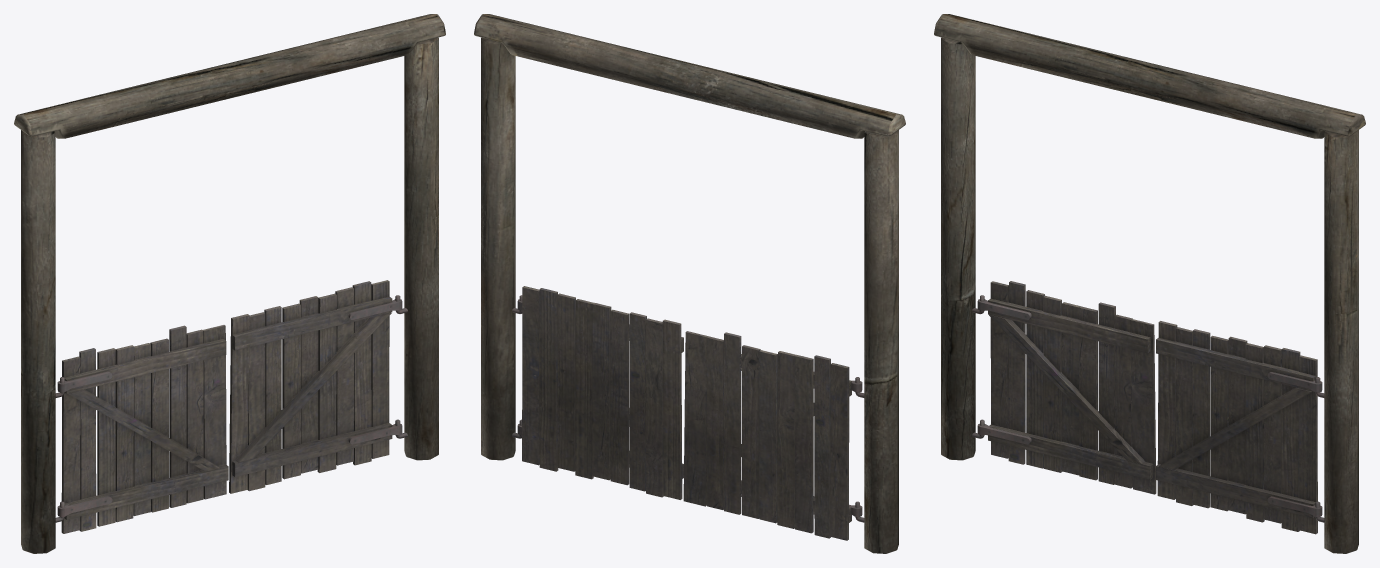
The model's file is gate.glb.
3 views of the same model, side by side, from view 1: azimuth 30°, elevation 25°; view 2: azimuth 150°, elevation 25°; view 3: azimuth 330°, elevation 25° (orthographic).
Parts seen in each view (by area): view 1: gate, gate_door_left, gate_door_right; view 2: gate, gate_door_left, gate_door_right; view 3: gate, gate_door_left, gate_door_right.
Boxes of the visible parts, <box> form: gate: <box>14,14,445,553</box>; gate_door_left: <box>57,325,228,533</box>; gate_door_right: <box>229,280,402,493</box>; gate: <box>474,14,905,553</box>; gate_door_left: <box>683,331,862,540</box>; gate_door_right: <box>517,286,683,499</box>; gate: <box>934,14,1365,553</box>; gate_door_left: <box>977,281,1156,494</box>; gate_door_right: <box>1156,321,1322,534</box>.
Bounding box in the file's own units: 3.61 × 3.6 × 0.2703.
Materials: 1 (1 with a texture image).
